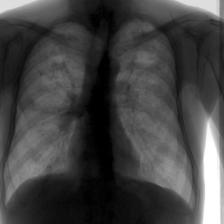tuberculosis: (0, 12, 201, 219)
